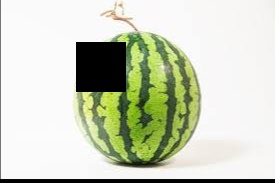watermelon: (70, 30, 201, 166)
